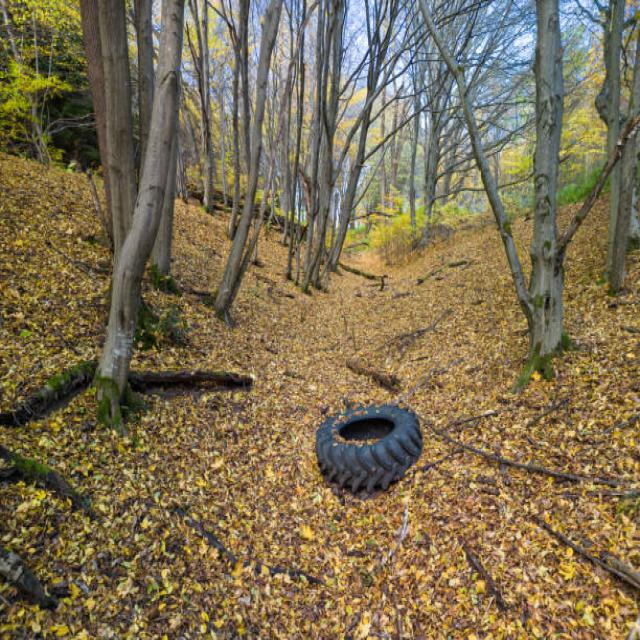tire: (315, 402, 422, 492)
